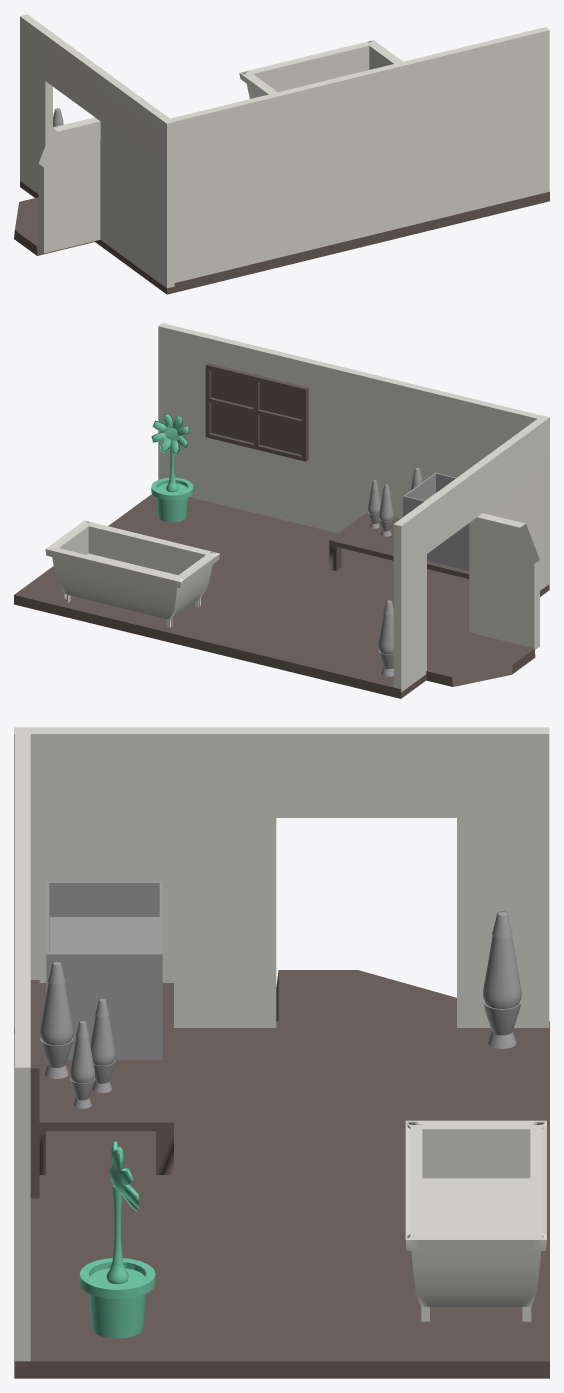
Rendered from House_Bedroom 1.fbx.
3 views of the same model, one above another, from view 1: azimuth 30°, elevation 25°; view 2: azimuth 150°, elevation 25°; view 3: azimuth 270°, elevation 25° (orthographic). The views are drawn at different scales.
Visible parts, largest first — view 1: Wall_Bedroom, Floor, Bathtub1; view 2: Wall_Bedroom, Floor, Bathtub1, pCube24, Steve, Table_low, Fish_Tank, Lavalamp_glass1_2; view 3: Floor, Wall_Bedroom, Bathtub1, Fish_Tank, Table_low, Steve, Lavalamp_glass1_2 (×4), Water, Lavalamp_frame1 (×2), pCube24.
Boxes of the visible parts, x1,y1,x2,y2 form: Wall_Bedroom: (20, 14, 549, 288); Floor: (14, 181, 549, 294); Bathtub1: (239, 40, 402, 98); Wall_Bedroom: (158, 323, 549, 691); Floor: (14, 494, 549, 698); Bathtub1: (45, 520, 219, 627); pCube24: (205, 363, 308, 461); Steve: (151, 414, 193, 522); Table_low: (329, 512, 469, 578); Fish_Tank: (403, 472, 469, 570); Lavalamp_glass1_2: (378, 614, 393, 654); Floor: (14, 970, 549, 1378); Wall_Bedroom: (14, 727, 549, 1365); Bathtub1: (405, 1120, 546, 1321); Fish_Tank: (46, 881, 162, 1059); Table_low: (39, 983, 173, 1174); Steve: (79, 1140, 155, 1338); Lavalamp_glass1_2 (×4): (40, 936, 521, 1083); Water: (49, 917, 159, 952); Lavalamp_frame1 (×2): (40, 911, 521, 1078); pCube24: (30, 980, 39, 1198).
Size of the model in its own units: 1402 by 519 by 811.
